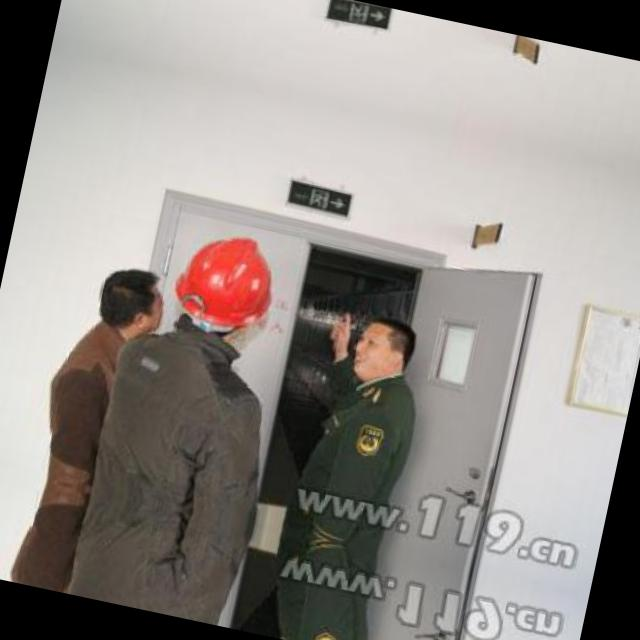helmet: (158, 215, 289, 372)
